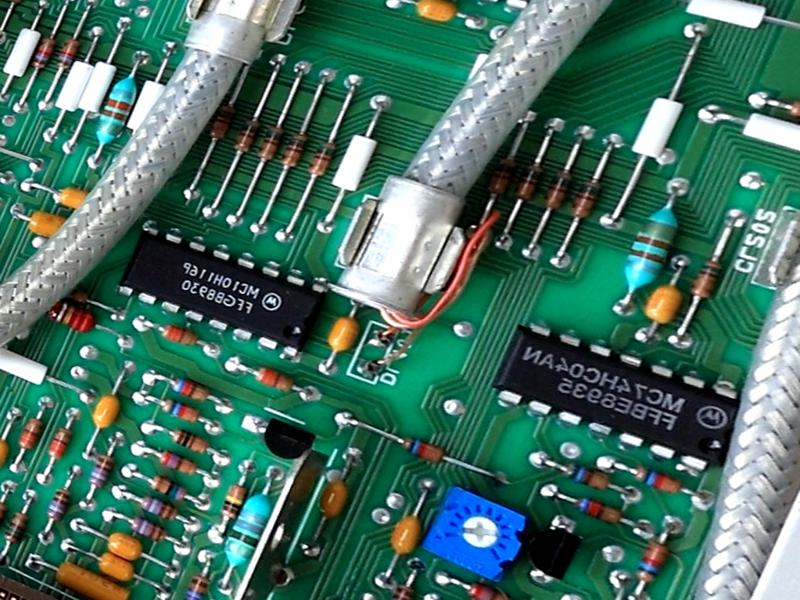Resistor: (617, 197, 687, 299), (221, 489, 279, 576), (91, 68, 142, 153), (686, 246, 729, 306), (627, 460, 687, 498), (557, 457, 616, 495), (566, 171, 609, 223), (45, 296, 100, 336), (632, 537, 674, 586), (537, 164, 577, 214), (393, 431, 449, 466), (228, 108, 267, 158), (571, 493, 626, 528), (253, 117, 292, 166), (484, 148, 521, 199), (203, 96, 241, 145), (304, 131, 342, 180), (513, 154, 549, 204), (276, 126, 312, 172), (153, 395, 203, 427), (250, 363, 298, 395), (167, 373, 217, 403), (216, 480, 251, 522), (135, 494, 182, 525), (158, 319, 206, 349), (156, 446, 201, 478), (43, 423, 75, 468), (146, 473, 190, 505), (42, 484, 75, 524), (130, 515, 170, 544), (16, 413, 45, 453), (86, 451, 116, 489), (171, 428, 212, 454), (31, 34, 58, 72), (54, 36, 84, 70), (2, 510, 31, 544), (181, 571, 215, 600)
